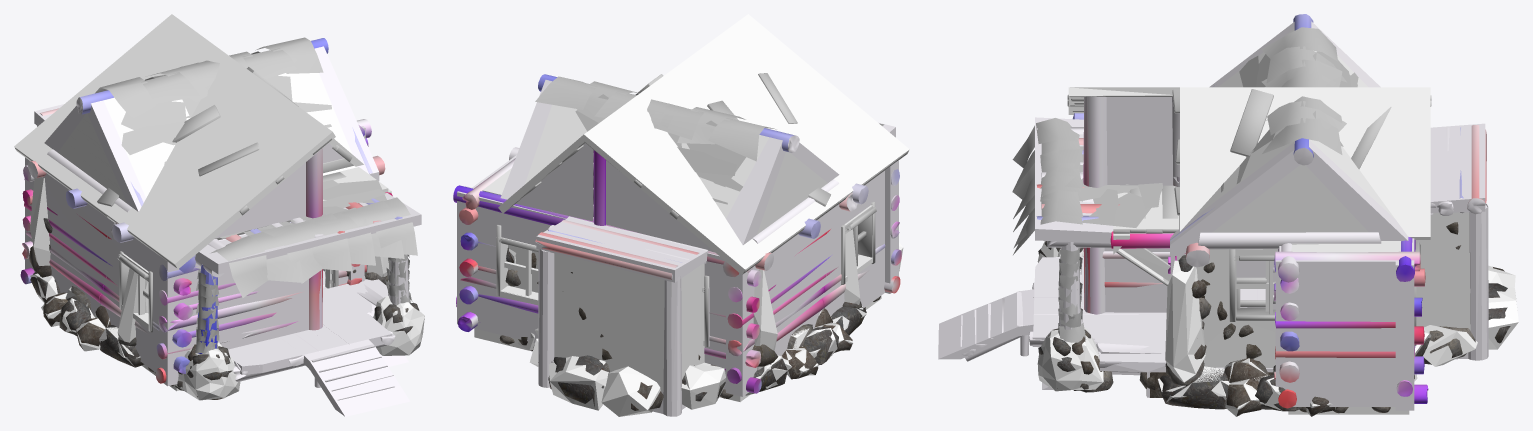
Rendered from PremadeBuildings.fbx.
3 renders of one model, left to right at view 1: azimuth 30°, elevation 25°; view 2: azimuth 150°, elevation 25°; view 3: azimuth 270°, elevation 25°, orthographic. The views are drawn at different scales.
Parts seen in each view (by area): view 1: LogCabin_Col, StoneCabin_Col, StoneCabin, LogCabin; view 2: LogCabin_Col, StoneCabin_Col, StoneCabin, LogCabin; view 3: StoneCabin_Col, LogCabin_Col, StoneCabin, LogCabin.
Boxes of the visible parts, x1,y1,x2,y2 form: LogCabin_Col: (14, 14, 408, 391); StoneCabin_Col: (30, 46, 424, 416); StoneCabin: (28, 37, 419, 400); LogCabin: (15, 67, 392, 386); LogCabin_Col: (457, 14, 909, 401); StoneCabin_Col: (500, 80, 903, 416); StoneCabin: (505, 74, 884, 410); LogCabin: (453, 73, 908, 398); StoneCabin_Col: (938, 21, 1518, 416); LogCabin_Col: (1042, 87, 1430, 414); StoneCabin: (960, 14, 1510, 416); LogCabin: (1067, 89, 1431, 413).
Size of the model in its own units: 856 by 623 by 1221.
